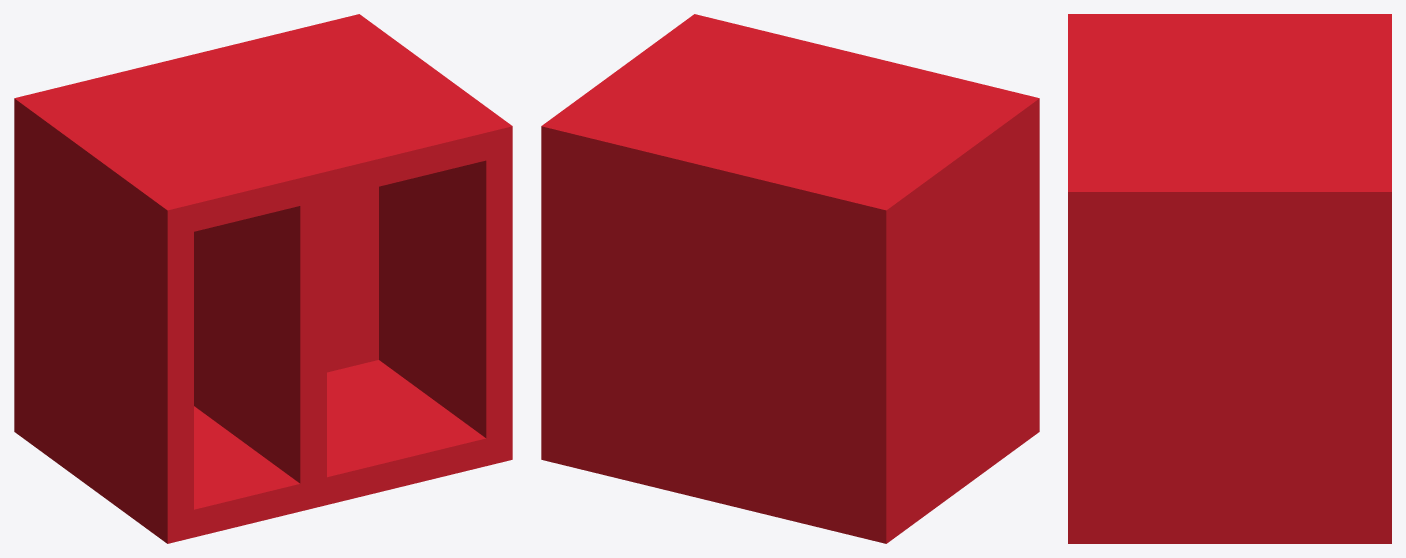
The model's file is tinker.obj.
3 views of the same model, side by side, from view 1: azimuth 30°, elevation 25°; view 2: azimuth 150°, elevation 25°; view 3: azimuth 270°, elevation 25° (orthographic). The views are drawn at different scales.
Visible parts, largest first — view 1: obj_0; view 2: obj_0; view 3: obj_0.
Part boxes in pixels (x1,y1,x2,y2): obj_0: [14, 14, 512, 543]; obj_0: [541, 14, 1039, 543]; obj_0: [1068, 14, 1391, 543].
Size of the model in its own units: 13 by 12 by 10.
